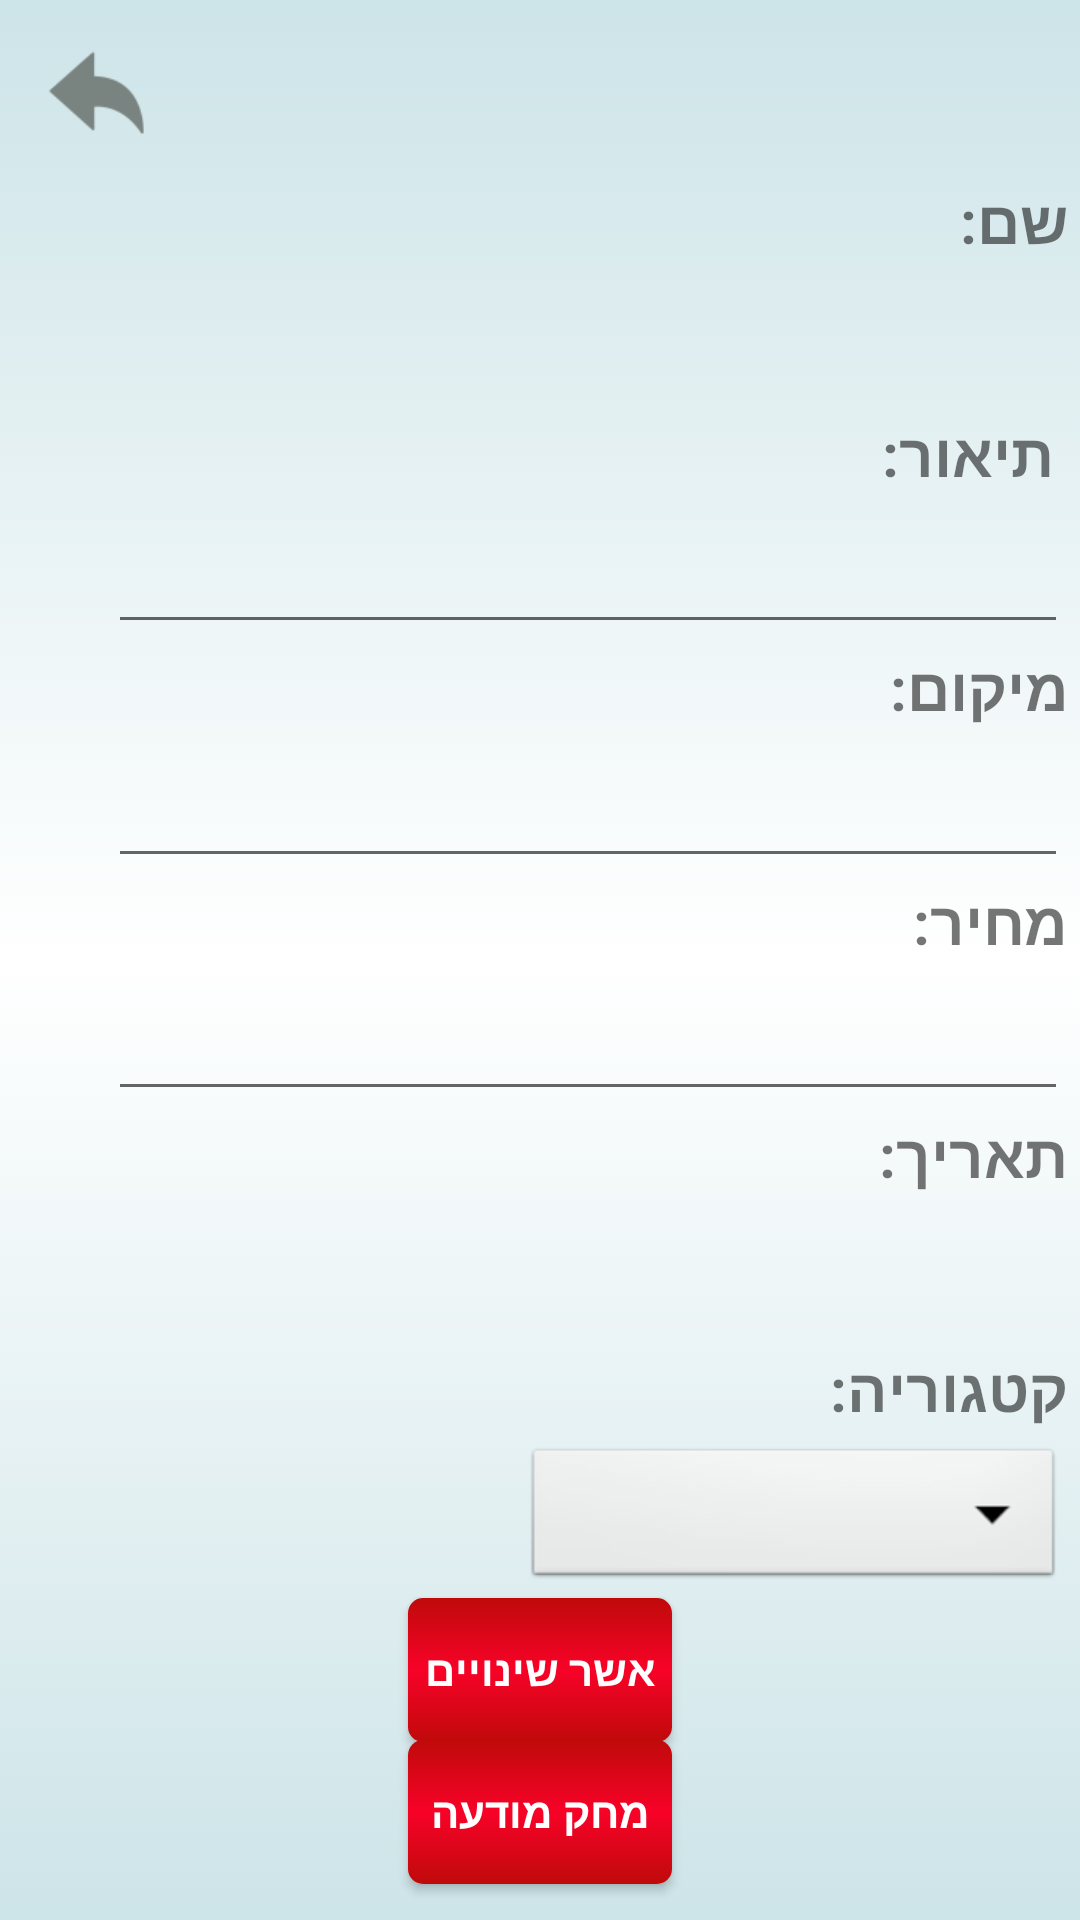

Named icons in this screenshot (1080px x 1920px) and their bounding boxes, [left=x1, top=y1, right=x2, bottom=y2]:
back button: [left=49, top=52, right=144, bottom=134]
